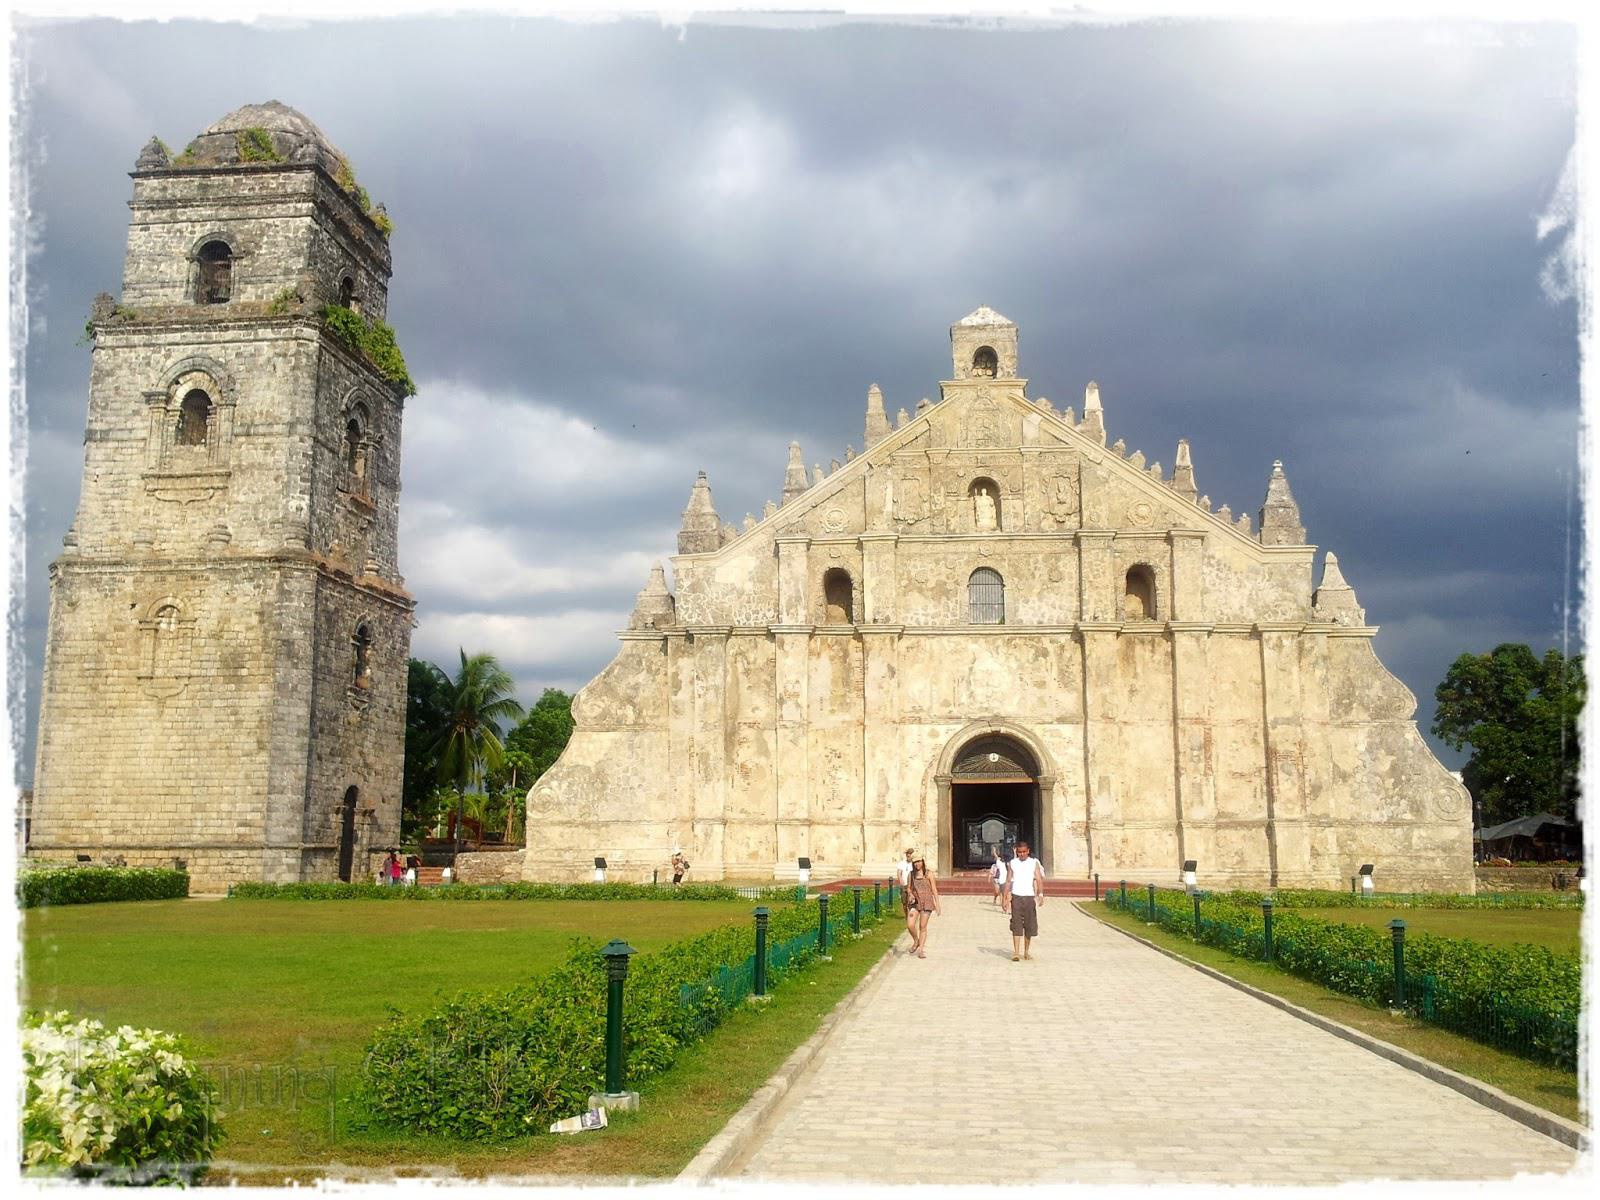paoay_church_paoay_ilocos_norte: (37, 86, 1485, 909)
vegetation_damage: (310, 292, 425, 400), (325, 163, 407, 242), (223, 124, 286, 175)
